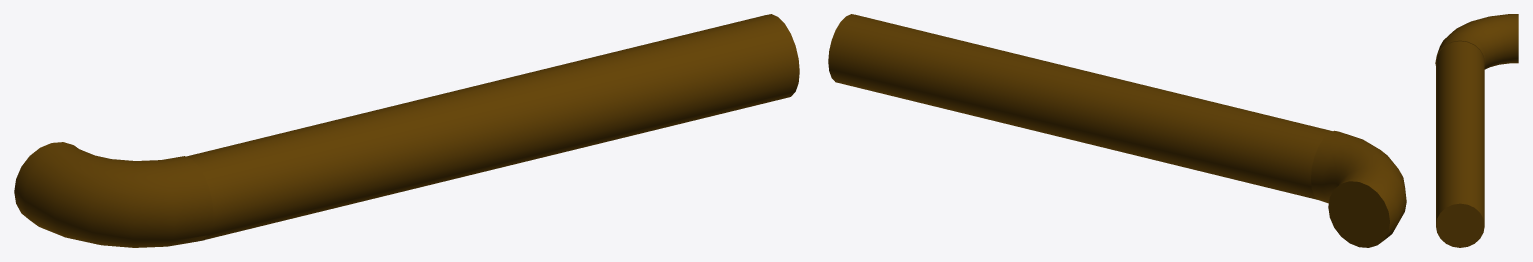
Rendered from 48_fallen_pipe2.fbx.
3 renders of one model, left to right at view 1: azimuth 30°, elevation 25°; view 2: azimuth 150°, elevation 25°; view 3: azimuth 270°, elevation 25°, orthographic. The views are drawn at different scales.
Visible parts, largest first — view 1: pCylinder190; view 2: pCylinder190; view 3: pCylinder190.
Part boxes in pixels (x1=…): pCylinder190: x1=14, y1=14, x2=799, y2=247; pCylinder190: x1=828, y1=14, x2=1406, y2=247; pCylinder190: x1=1435, y1=14, x2=1518, y2=247.
Size of the model in its own units: 1.22 by 0.1297 by 0.2173.
